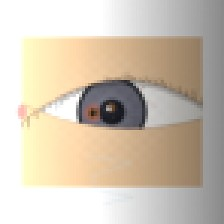foreign_body_visible: (44, 120, 73, 143)
